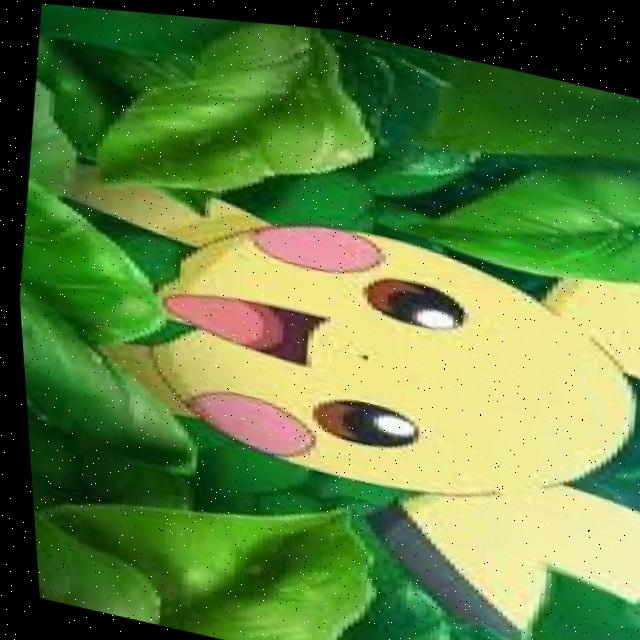pichu: (64, 144, 640, 640)
